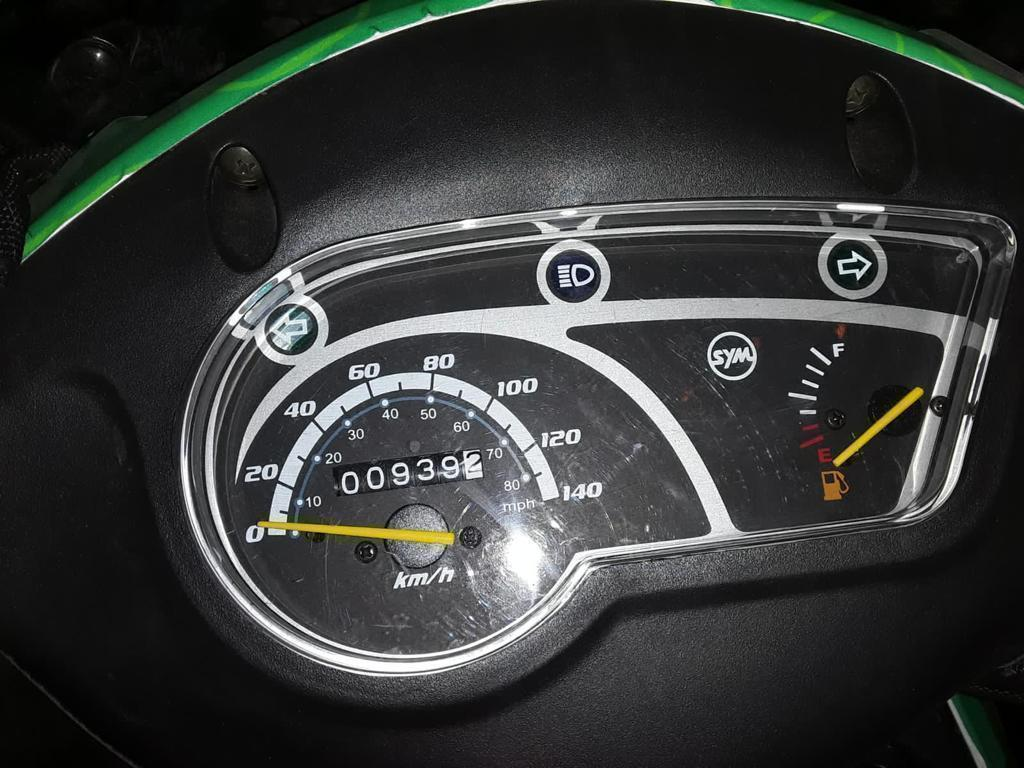0: (365, 464, 385, 491), (339, 469, 360, 494), (334, 451, 342, 463)
2: (464, 450, 483, 474), (325, 452, 334, 464)
3: (415, 457, 436, 483)
9: (389, 460, 411, 489), (440, 453, 461, 479)
odometer: (325, 446, 487, 498)
